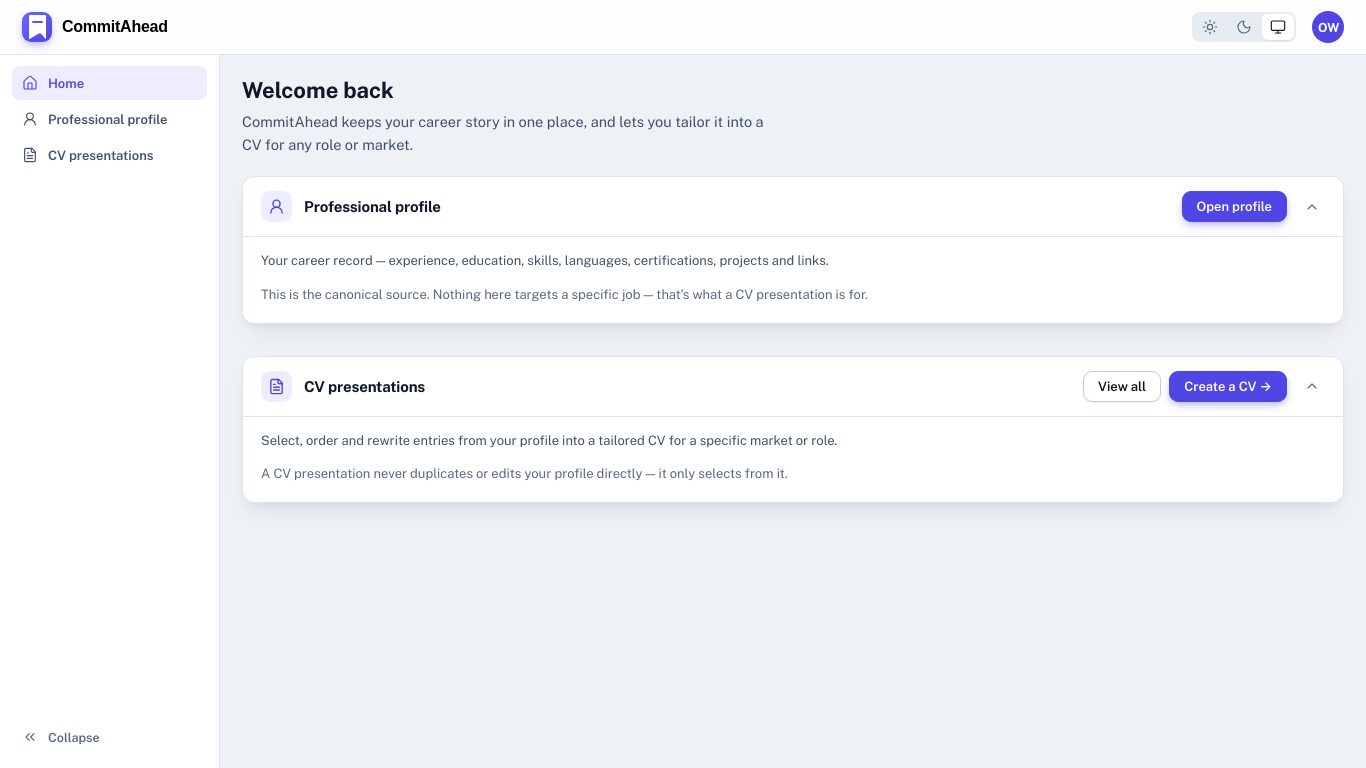
Test: App › shows the professional profile and the signed-in email once authenticated
Expected: the heading "Professional profile" is shown, x1=304 y1=198 x2=441 y2=215
Click the button with aria-label "Account menu": [1328, 27] box x1=1312 y1=11 x2=1344 y2=43
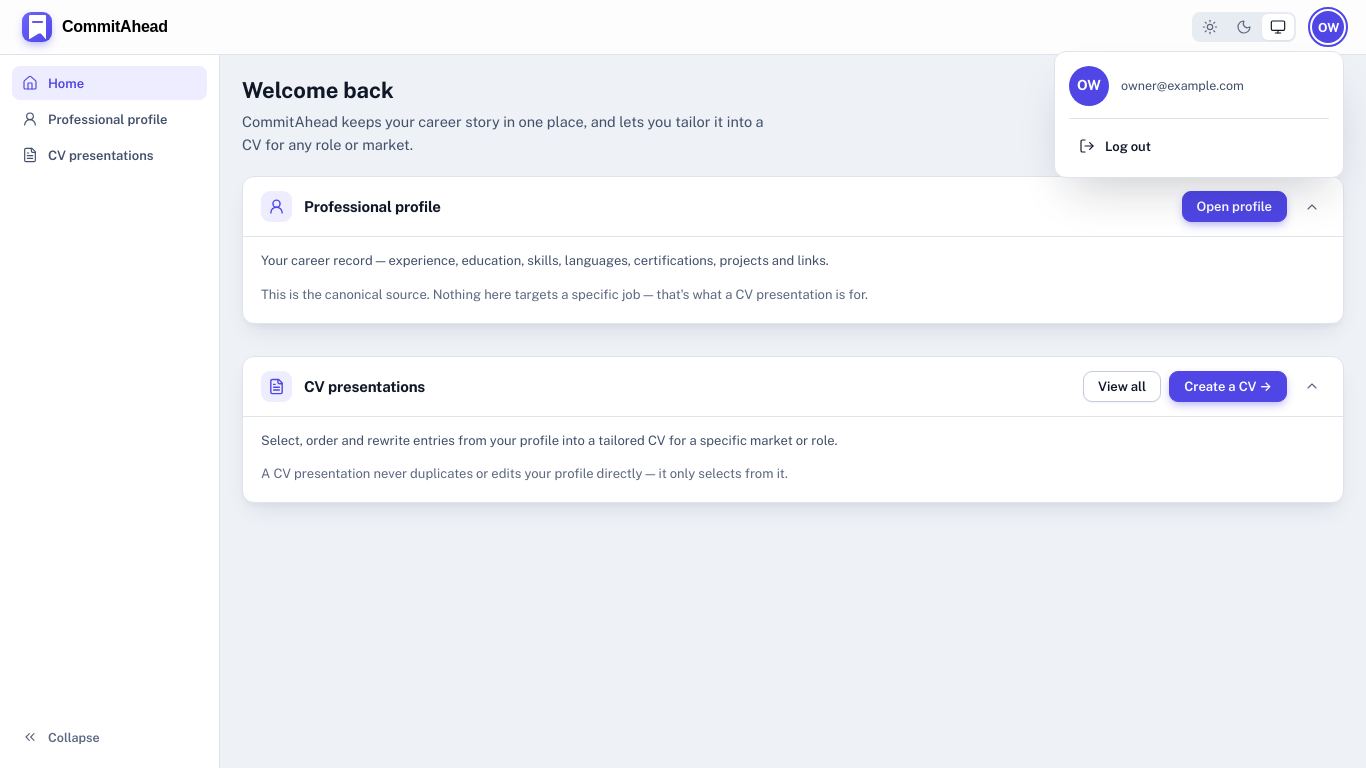
Expected: the text "owner@example.com" is shown, x1=1121 y1=76 x2=1244 y2=96
